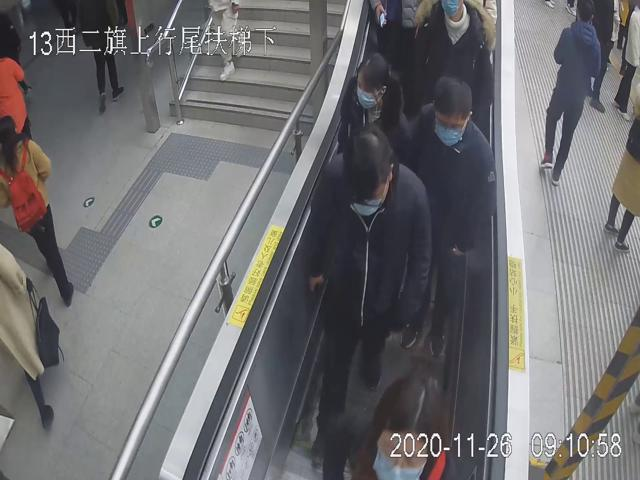person: (305, 122, 433, 466), (399, 70, 496, 358), (537, 0, 602, 188), (333, 55, 412, 171)
